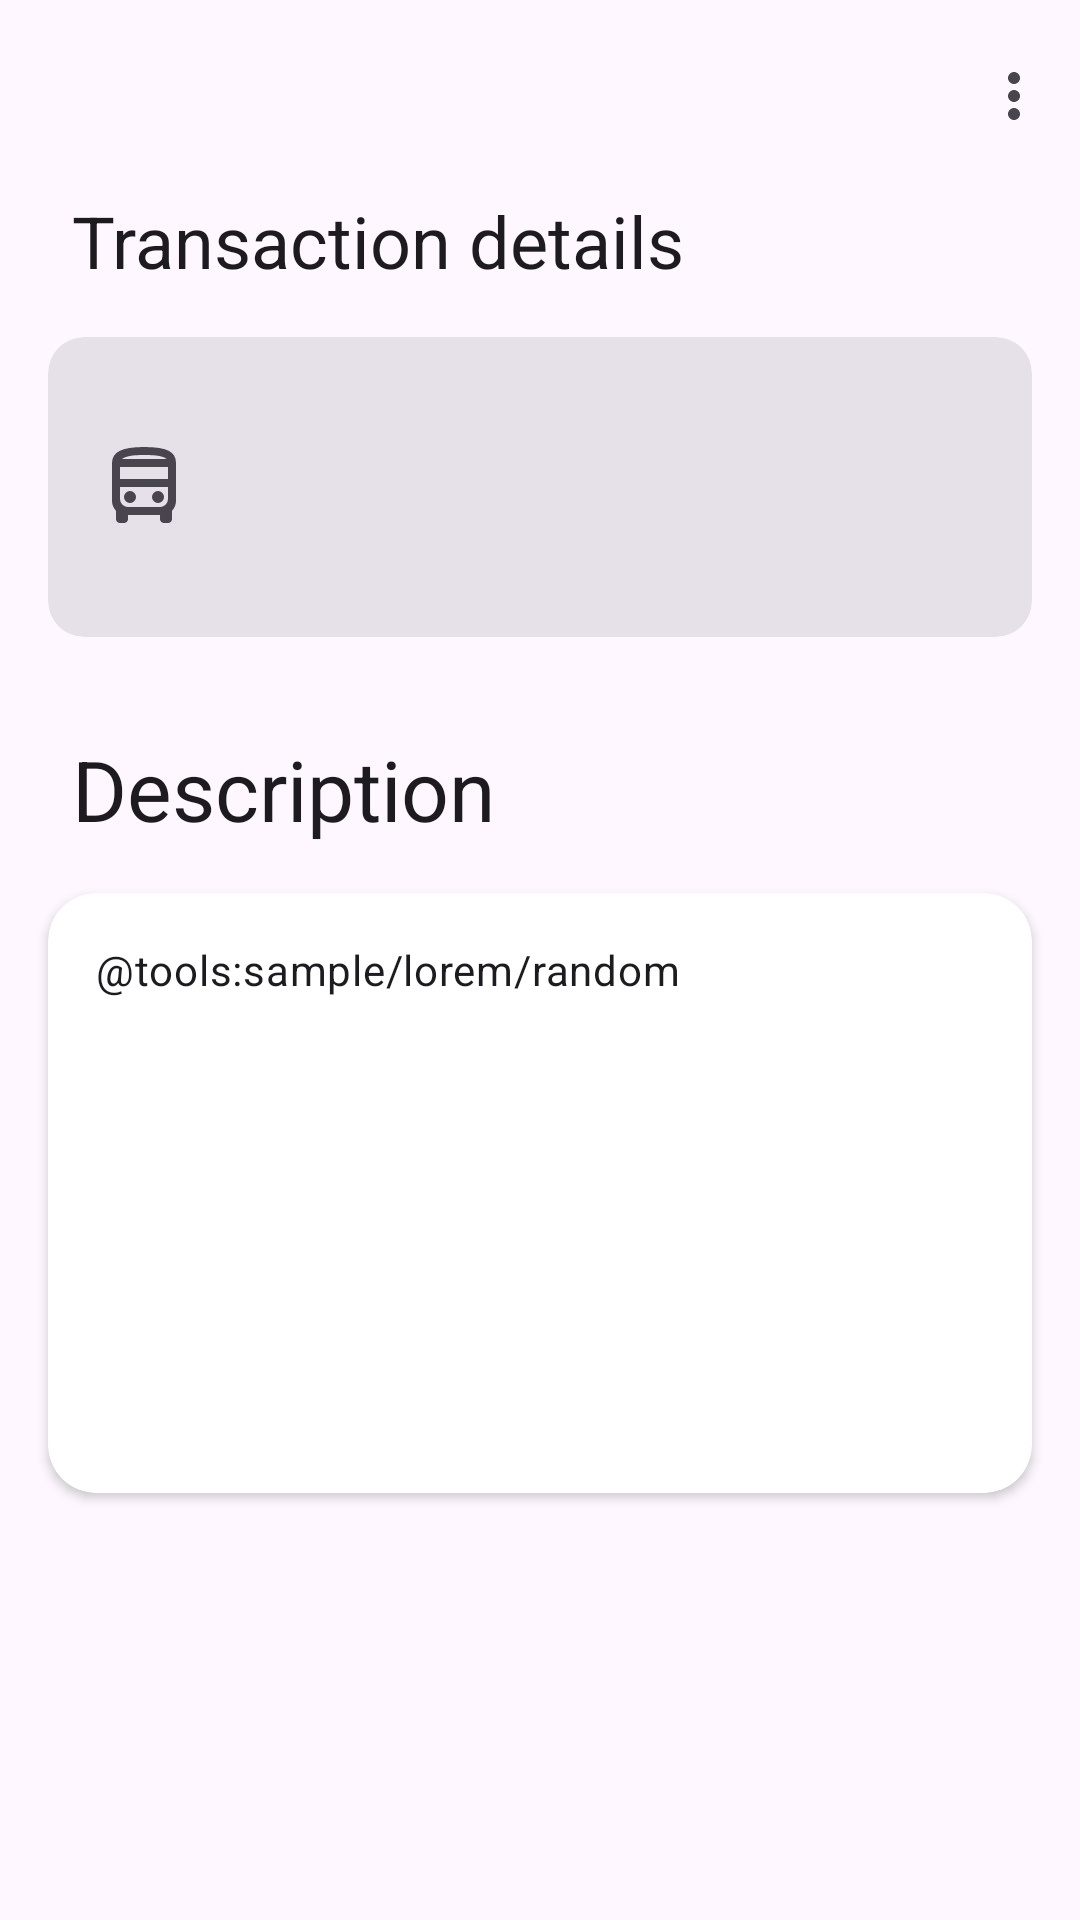

Icon click points for this 1080x1920 phone screenshot, format point (x, y):
Icon representing the transaction type: point (144, 485)
